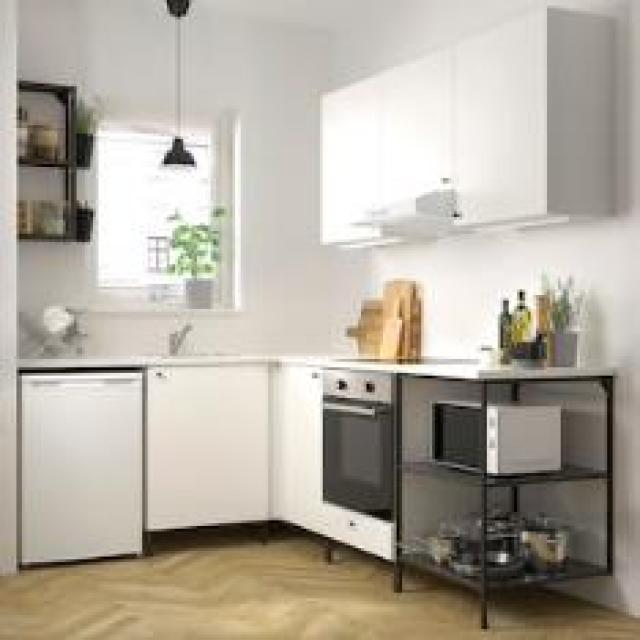dishwasher: (17, 365, 142, 562)
